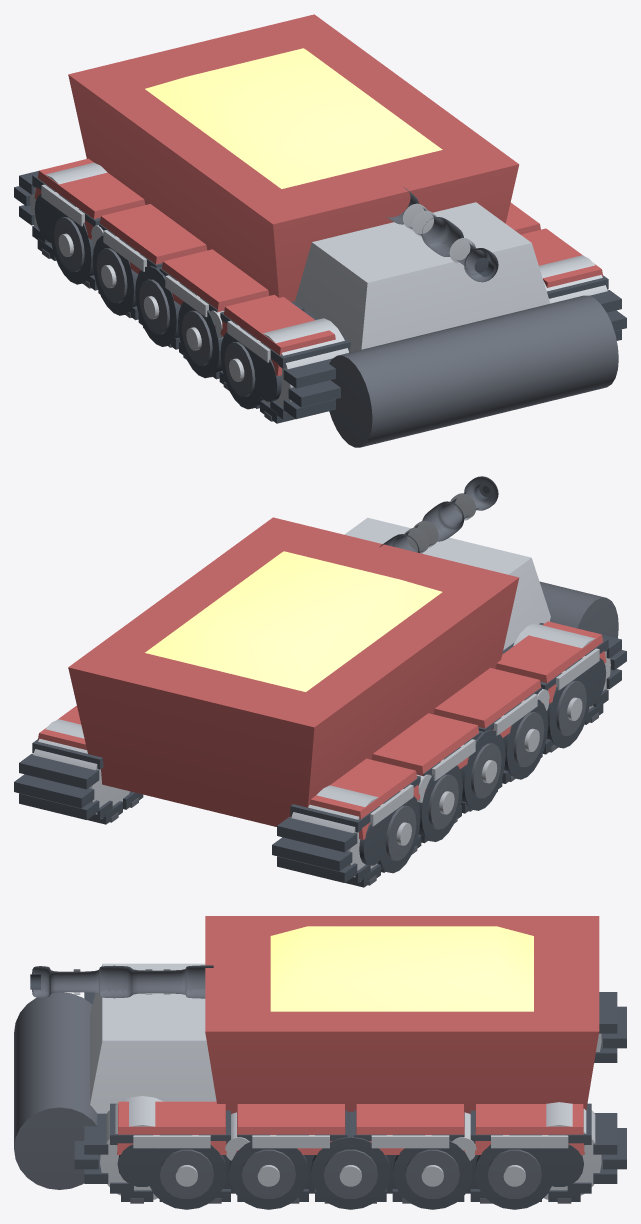
Rendered from sharv.glb.
The picture shows the model from 3 angles, top to bottom: view 1: azimuth 30°, elevation 25°; view 2: azimuth 150°, elevation 25°; view 3: azimuth 270°, elevation 25°; orthographic projection. The views are drawn at different scales.
Parts seen in each view (by area): view 1: Hull, Turret, Barrel; view 2: Hull, Turret, Barrel; view 3: Hull, Turret, Barrel.
Boxes of the visible parts, x1,y1,x2,y2 form: Hull: (14,75,626,447); Turret: (68,14,518,224); Barrel: (395,187,498,280); Hull: (14,501,626,887); Turret: (68,517,518,727); Barrel: (380,476,498,553); Hull: (14,963,626,1209); Turret: (205,916,599,1031); Barrel: (30,965,213,995).
Size of the model in its own units: 2.22 by 1.15 by 3.58.
